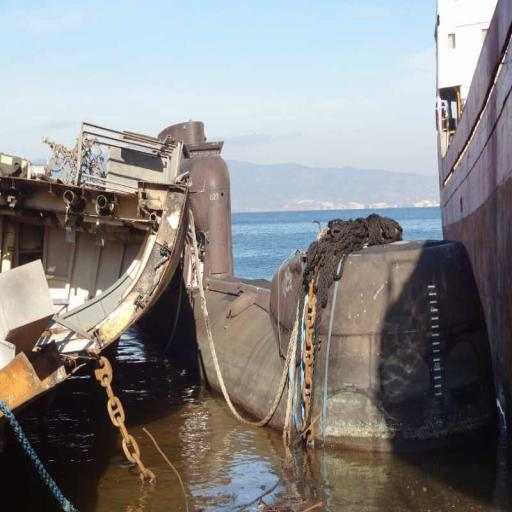submarine: (162, 113, 504, 448)
